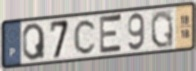7: (49, 19, 70, 61)
9: (127, 12, 146, 52)
C: (73, 18, 98, 56)
E: (98, 13, 123, 56)
Q: (21, 22, 47, 62), (150, 9, 175, 50)
